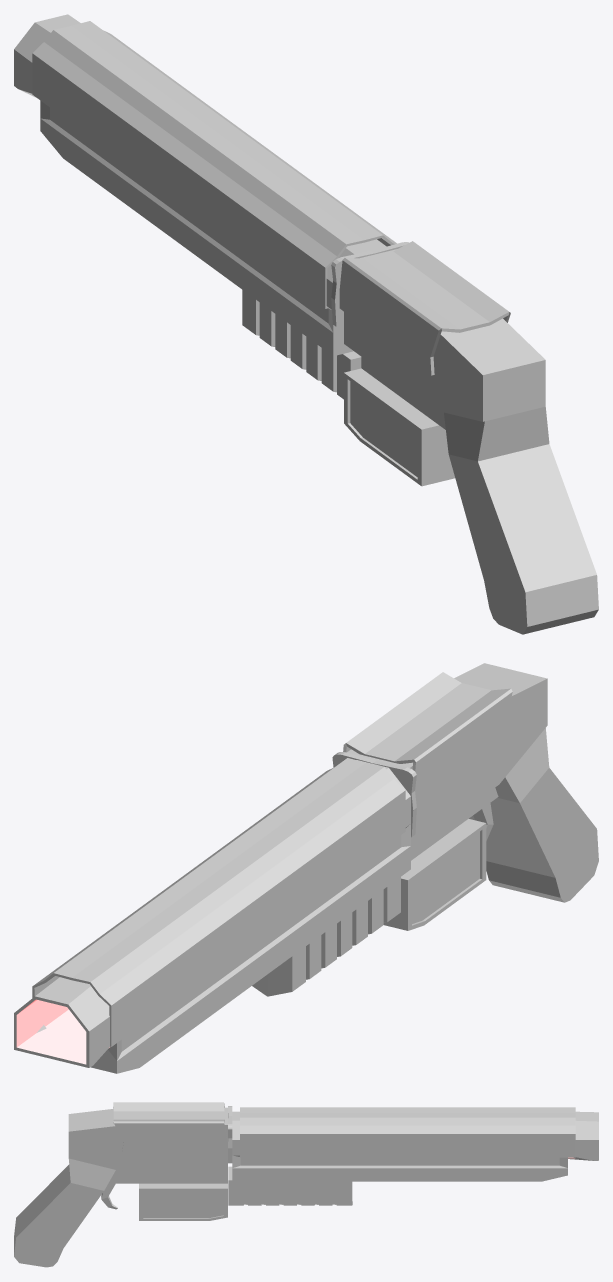
The model's file is SHOTGUN.fbx.
3 renders of one model, top to bottom at view 1: azimuth 30°, elevation 25°; view 2: azimuth 150°, elevation 25°; view 3: azimuth 270°, elevation 25°, orthographic. The views are drawn at different scales.
Visible parts, largest first — view 1: Cube.009; view 2: Cube.009; view 3: Cube.009.
Boxes of the visible parts, left/top/right/bottom form: Cube.009: left=14, top=14, right=598, bottom=634; Cube.009: left=14, top=663, right=598, bottom=1073; Cube.009: left=14, top=1102, right=598, bottom=1267.
Bounding box in the file's own units: 5.73 × 17.26 × 63.01.
